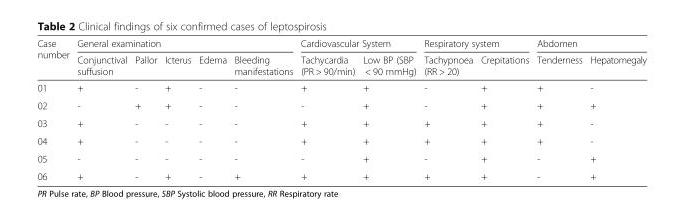table: (36, 37, 645, 181)
table column: (229, 37, 296, 181), (296, 37, 358, 181), (358, 37, 419, 181), (585, 37, 645, 181), (72, 37, 130, 181), (419, 37, 476, 181), (476, 37, 532, 181), (532, 37, 585, 181), (36, 37, 72, 181), (194, 37, 229, 181), (160, 37, 194, 181), (130, 37, 160, 181)
table column header: (36, 37, 645, 79)
table row: (36, 51, 645, 79), (36, 96, 645, 114), (36, 131, 645, 149), (36, 149, 645, 167), (36, 79, 645, 96), (36, 114, 645, 131), (36, 37, 645, 51), (36, 167, 645, 181)
table spanning cell: (72, 37, 296, 51), (296, 37, 419, 51), (419, 37, 532, 51), (532, 37, 645, 51), (36, 37, 72, 79)
